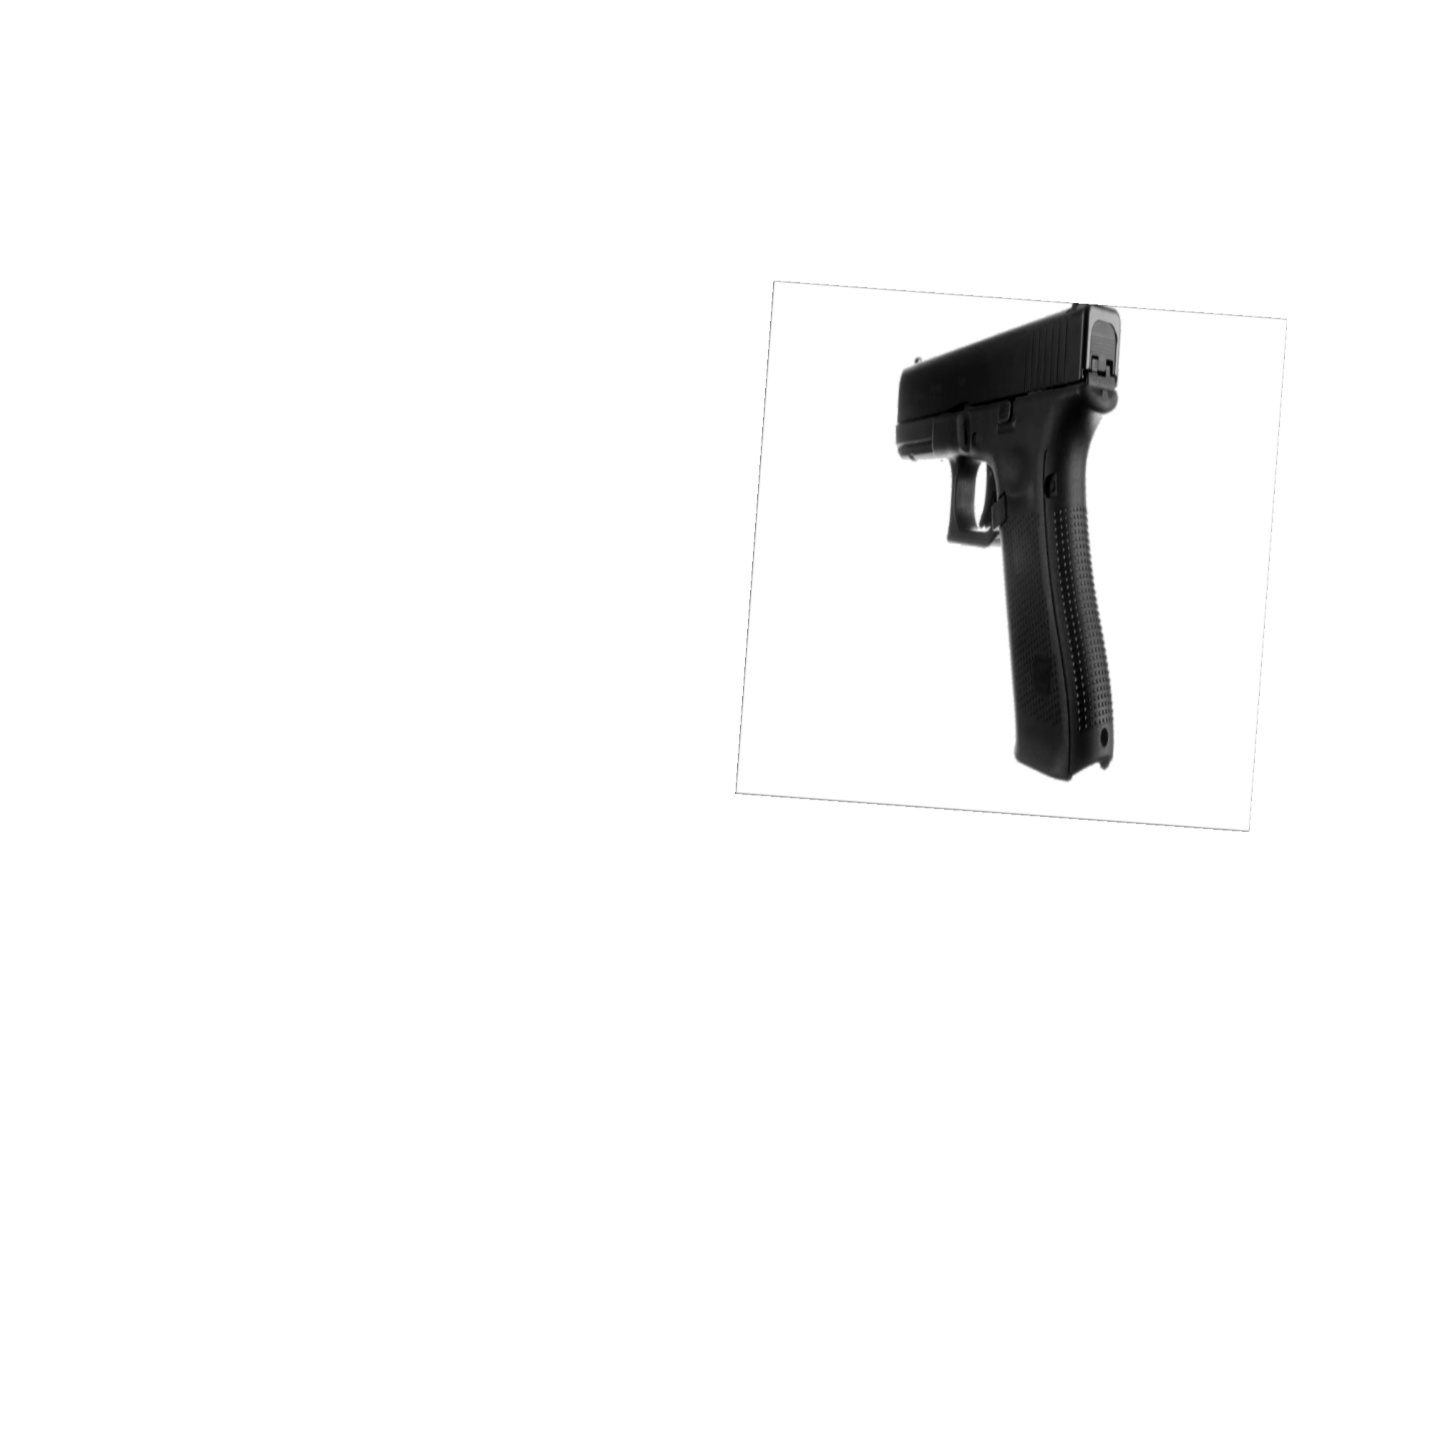gun: (884, 298, 1140, 786)
